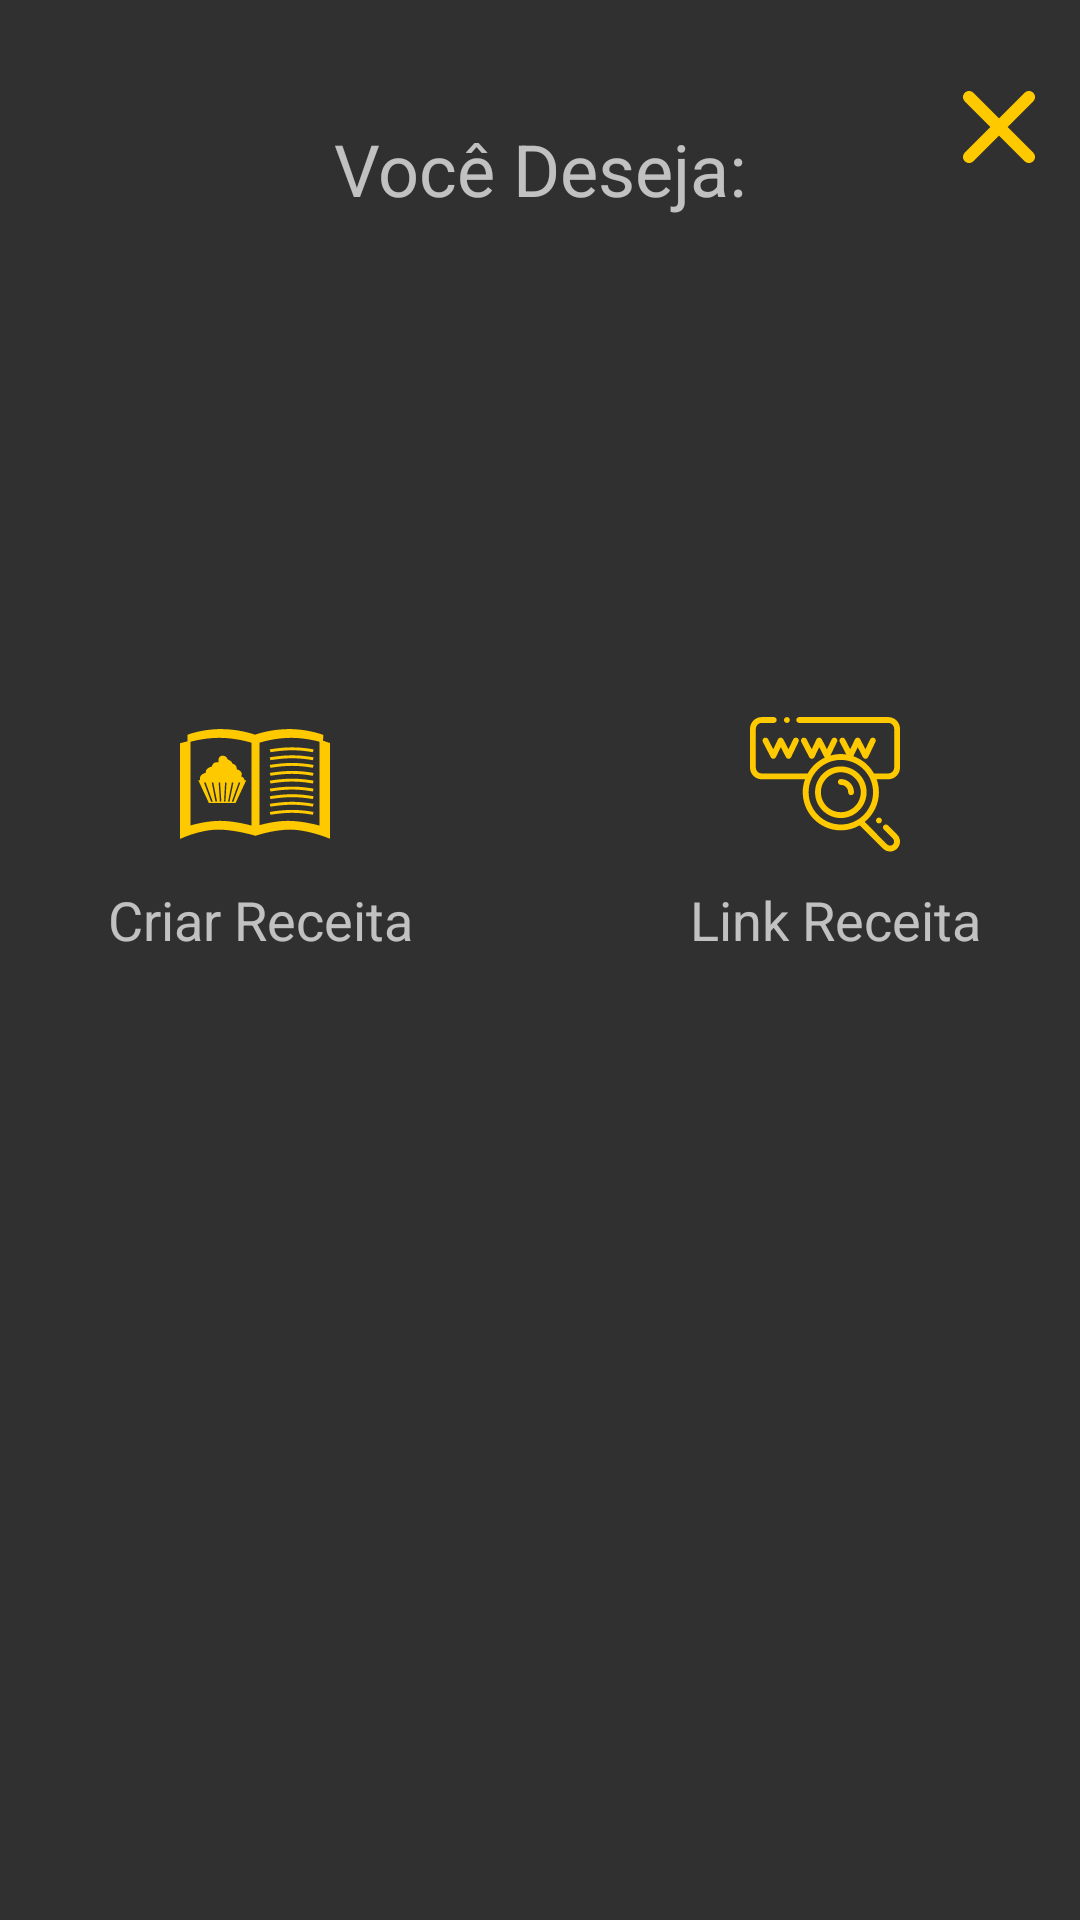

Icon bounding boxes for this 1080px×1920px phone screenshot, format (x1, y1, x2, y2):
cancel: (963, 91, 1035, 163)
recipes book: (180, 729, 330, 839)
url: (750, 717, 900, 852)
